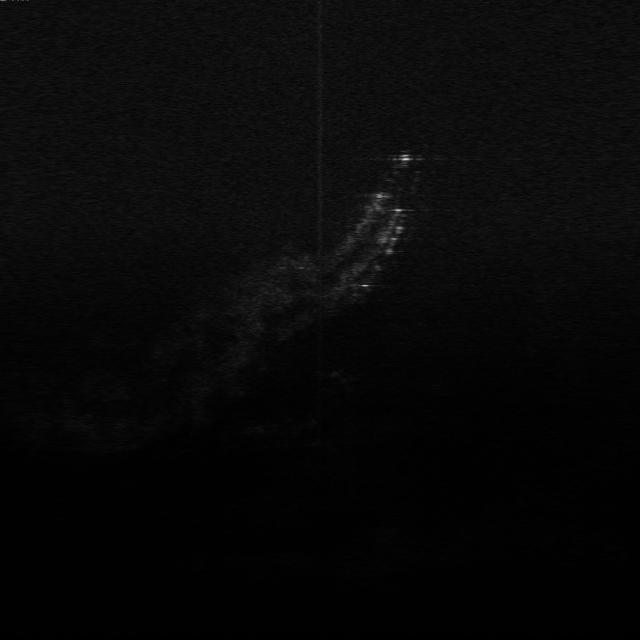rov: (394, 149, 420, 165)
